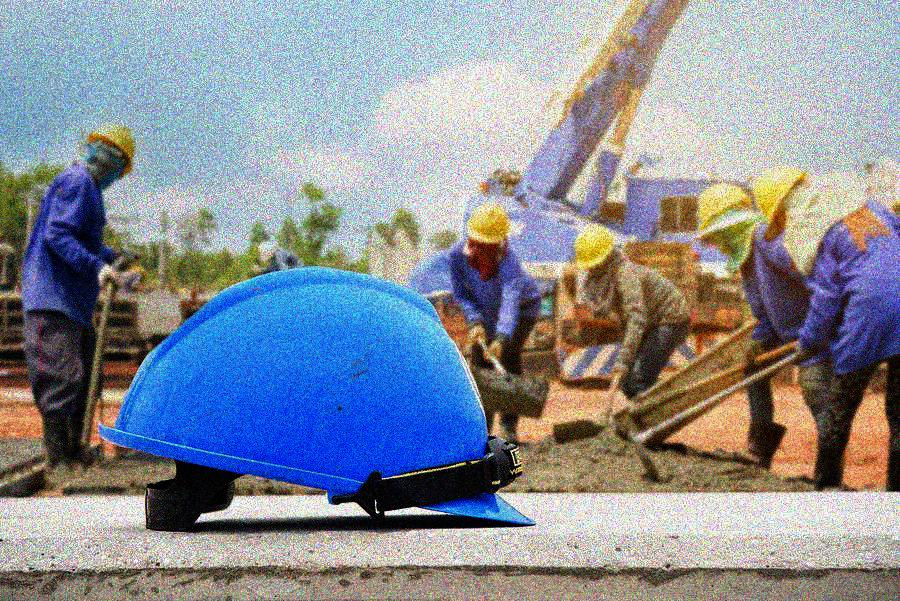helmet: (753, 164, 812, 240), (694, 181, 752, 258), (85, 124, 138, 191), (465, 200, 513, 261), (574, 223, 620, 280)
